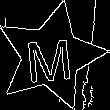M_N: (25, 29, 77, 84)
